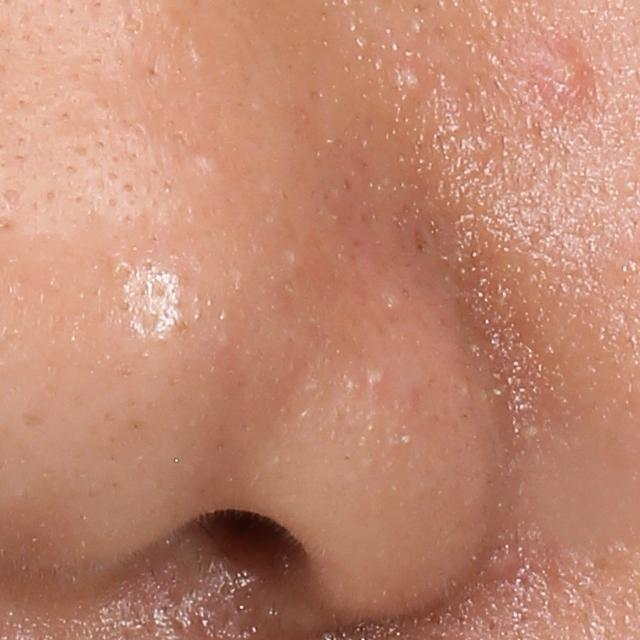comedo: (189, 144, 229, 181), (398, 66, 427, 95)
